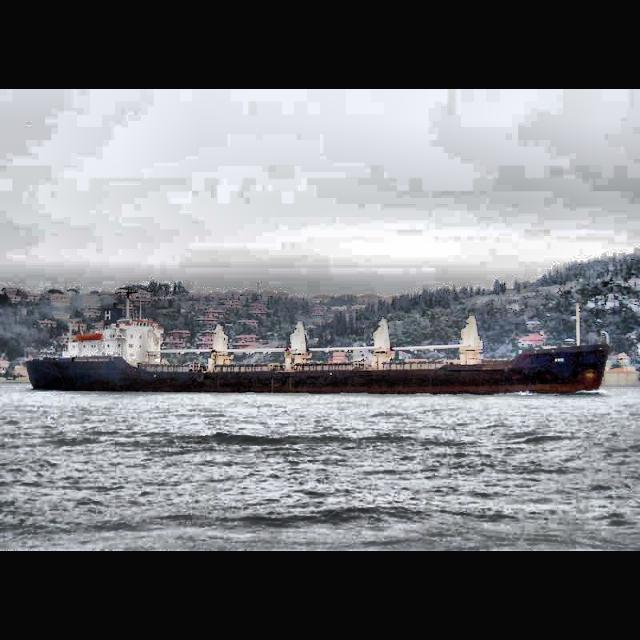bulk_carrier: (24, 286, 614, 396)
